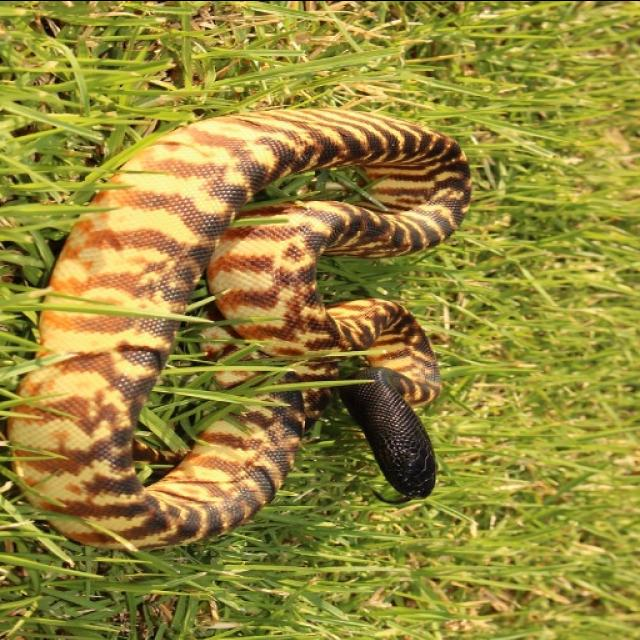snake: (15, 99, 481, 558)
